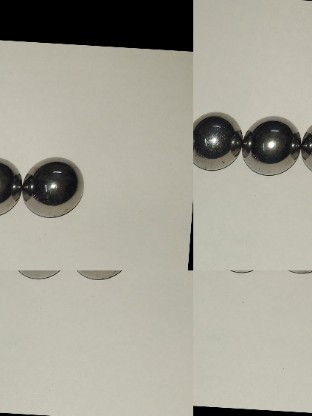ironball: (20, 153, 89, 221), (244, 115, 304, 179), (188, 114, 238, 175), (0, 150, 23, 226)
